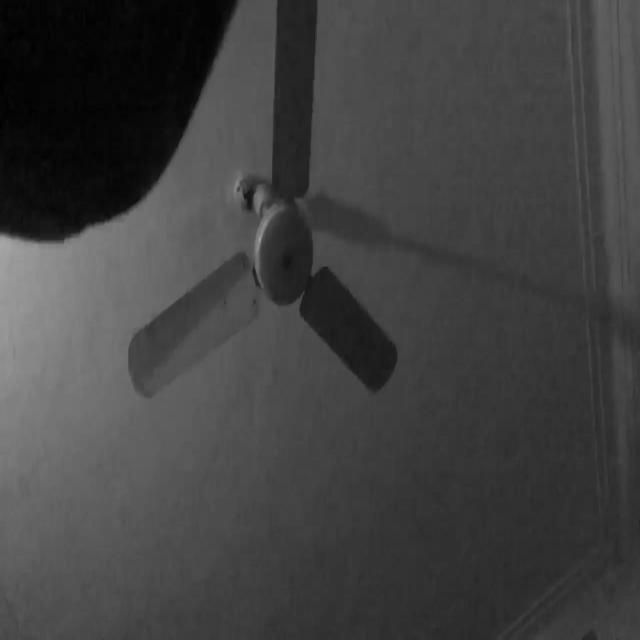fan: (127, 0, 408, 405)
light: (252, 196, 314, 306)
